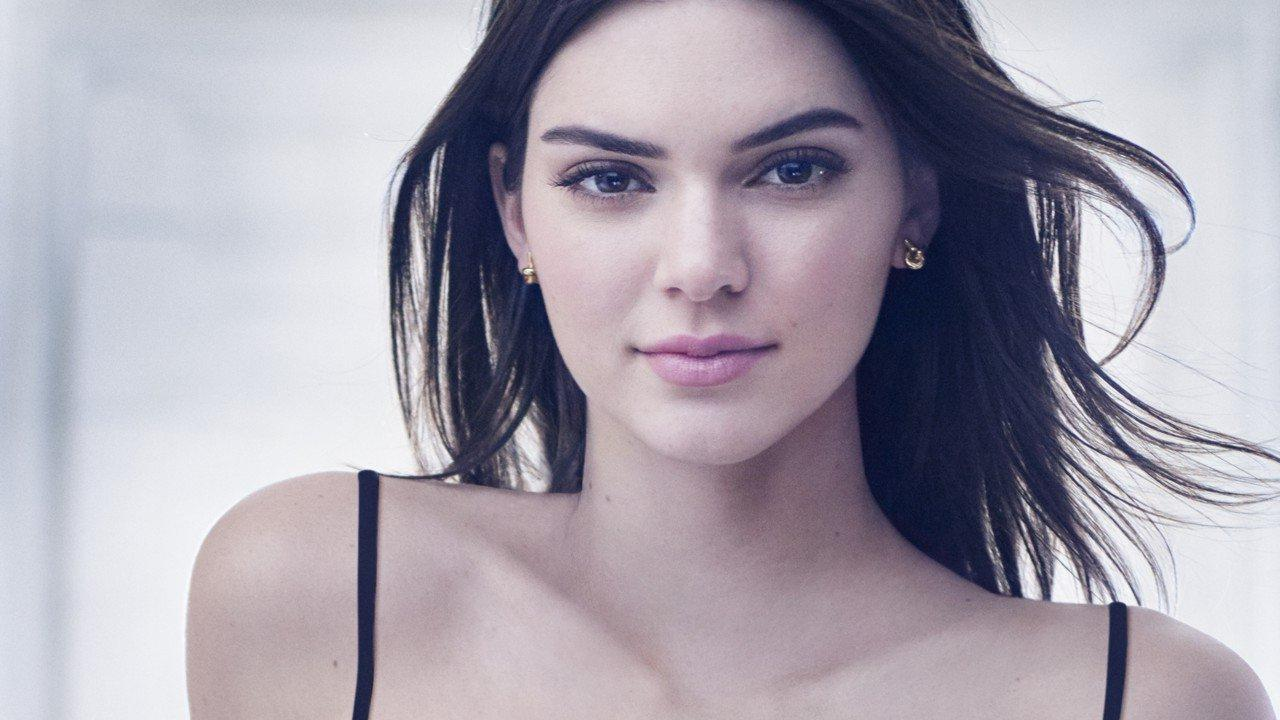Sober: (532, 15, 852, 457)
